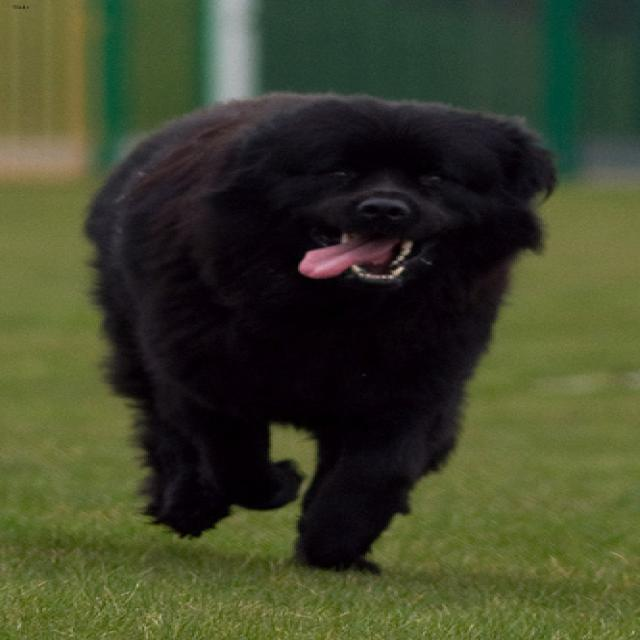dog-newfoundland: (60, 76, 577, 588)
